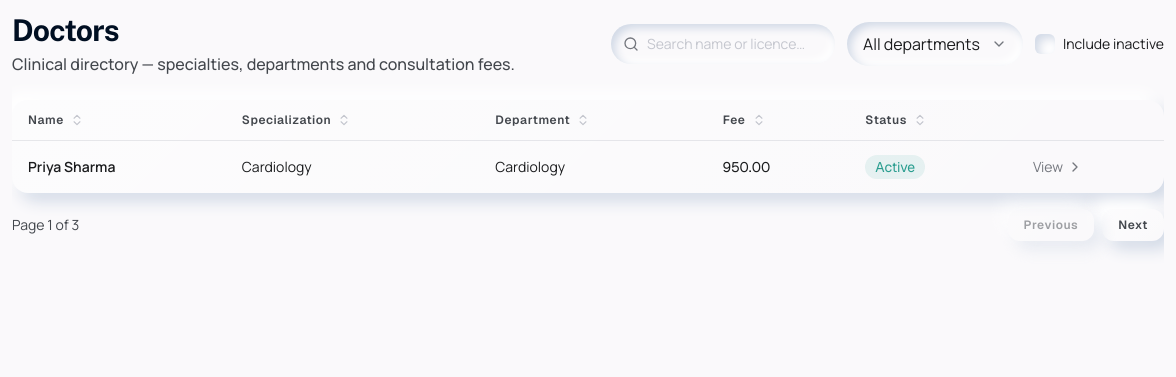
inactive doctors in the directory › goes back to the first page when the control is switched, either way
Click the button "Next". click: x=1133, y=225
box: [1102,209,1164,241]
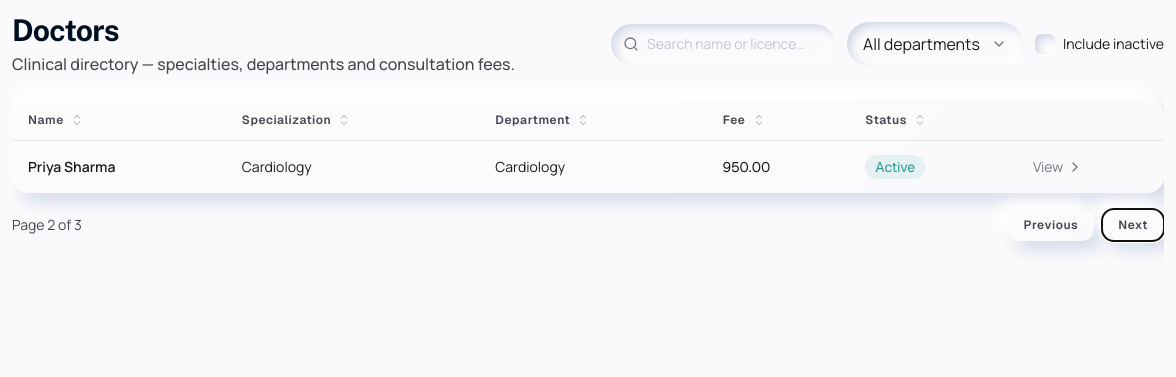
Now the text "Page 2 of 3" is shown, box [12,215,82,235]
# The list with inactive doctors is another list: its page 2 need not exist.
Click the checkbox named "Include inactive". click: x=1045, y=44
box: [1035,34,1055,54]
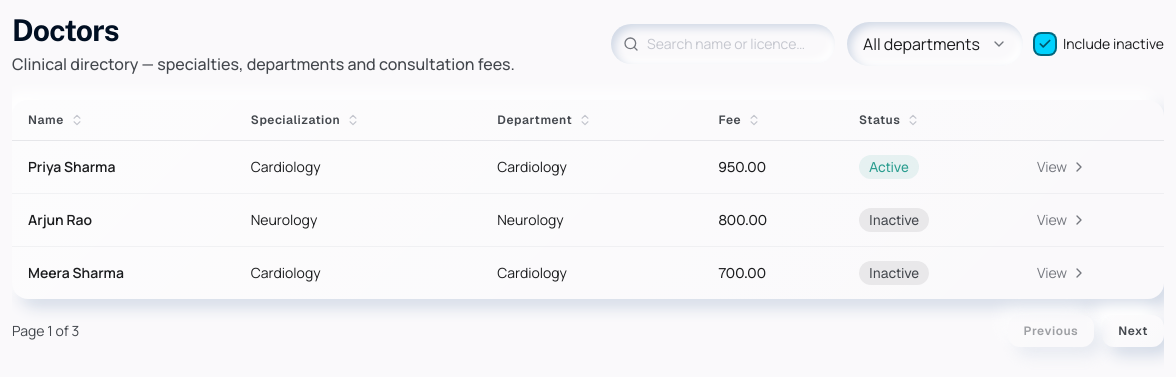
Now the text "Page 1 of 3" is shown, box [12,321,79,341]
Click the button "Next". click: x=1133, y=331
box: [1102,315,1164,347]
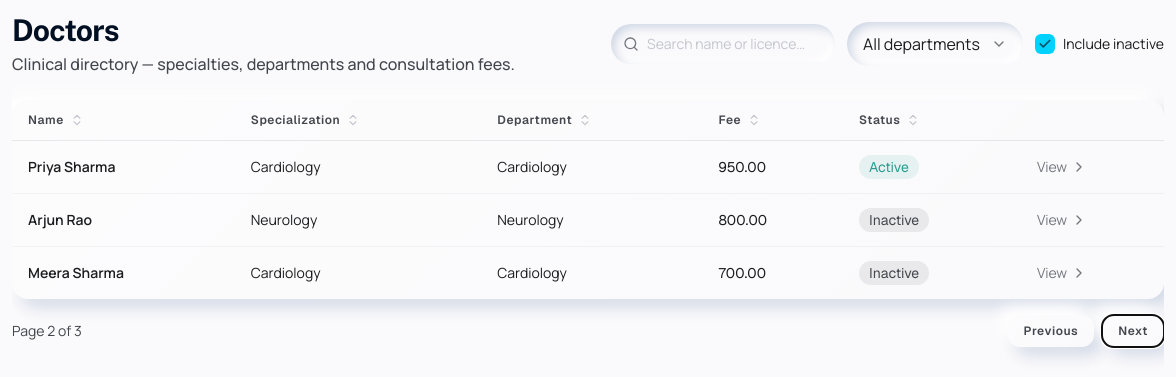
Now the text "Page 2 of 3" is shown, box [12,321,82,341]
Click the checkbox named "Include inactive". click: x=1045, y=44
box: [1035,34,1055,54]
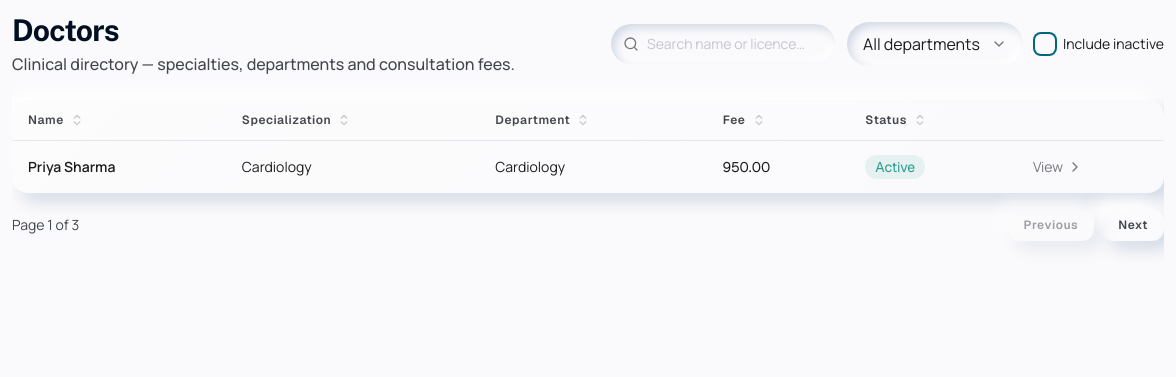
Now the text "Arjun Rao" is gone
Now the text "Page 1 of 3" is shown, box [12,215,79,235]
